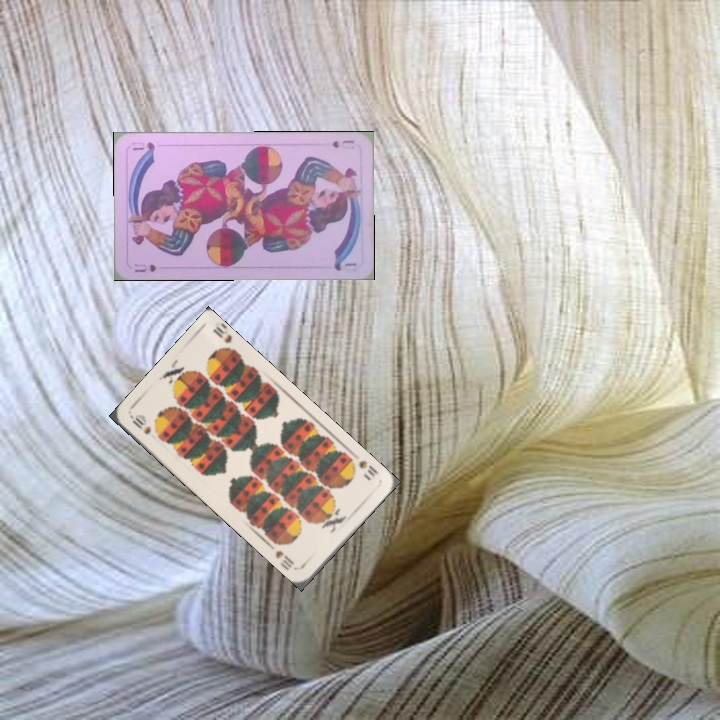S10: (345, 454, 380, 479), (128, 411, 154, 437)
SU: (131, 260, 159, 275), (328, 136, 357, 150)
